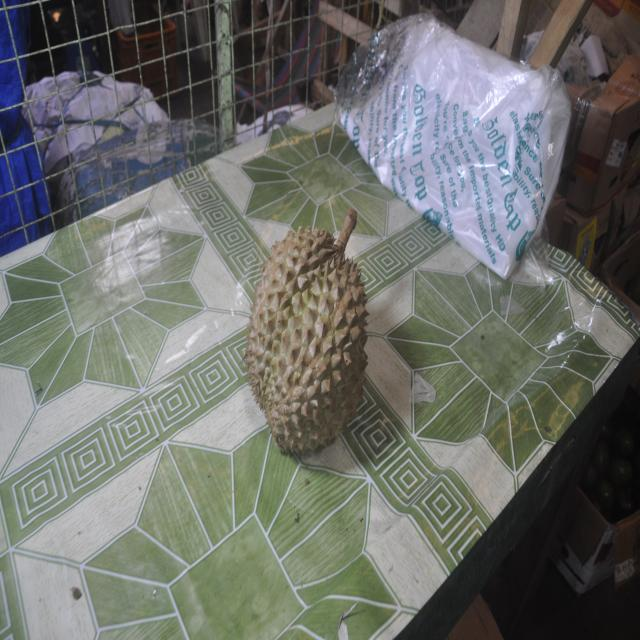mature: (244, 208, 368, 454)
